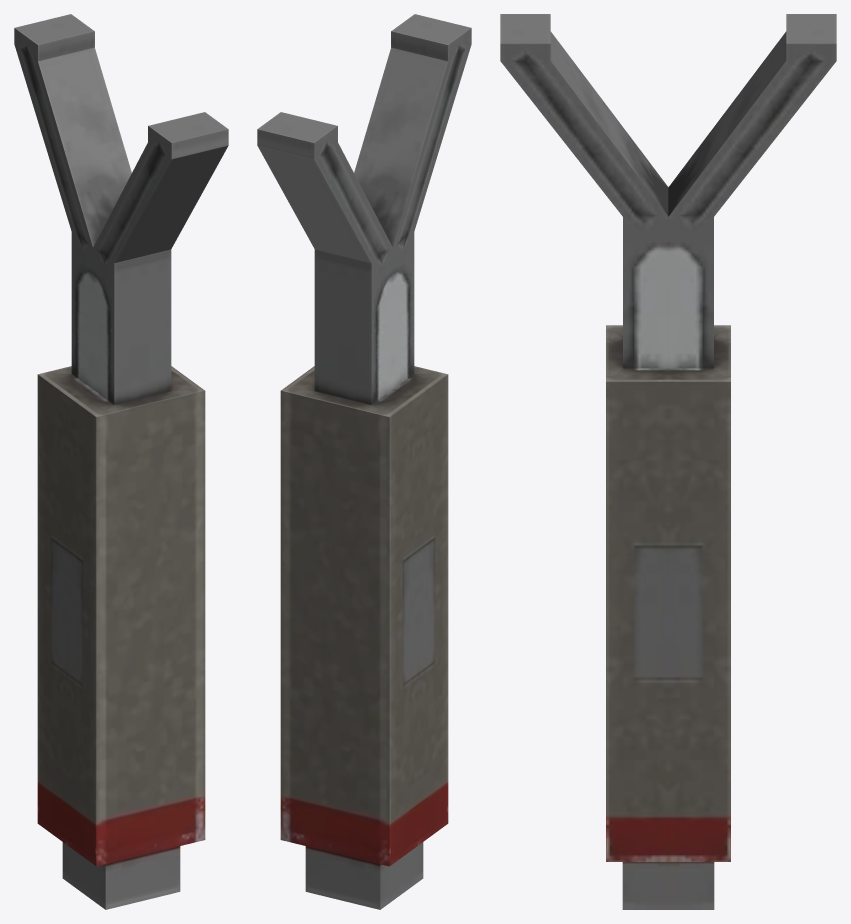
The model's file is Part - Column 08-K_ove-v9.glb.
3 renders of one model, left to right at view 1: azimuth 30°, elevation 25°; view 2: azimuth 150°, elevation 25°; view 3: azimuth 270°, elevation 25°, orthographic. The views are drawn at different scales.
Parts seen in each view (by area): view 1: Column_08; view 2: Column_08; view 3: Column_08.
Part boxes in pixels (x1,y1,x2,y2): Column_08: (14, 14, 228, 909); Column_08: (257, 14, 471, 909); Column_08: (500, 14, 836, 909).
Bounding box in the file's own units: 0.1738 × 1.23 × 0.4355.
1 material, 1 textured.
